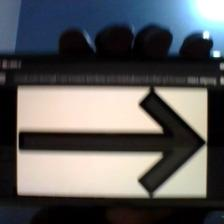right: (17, 89, 205, 195)
